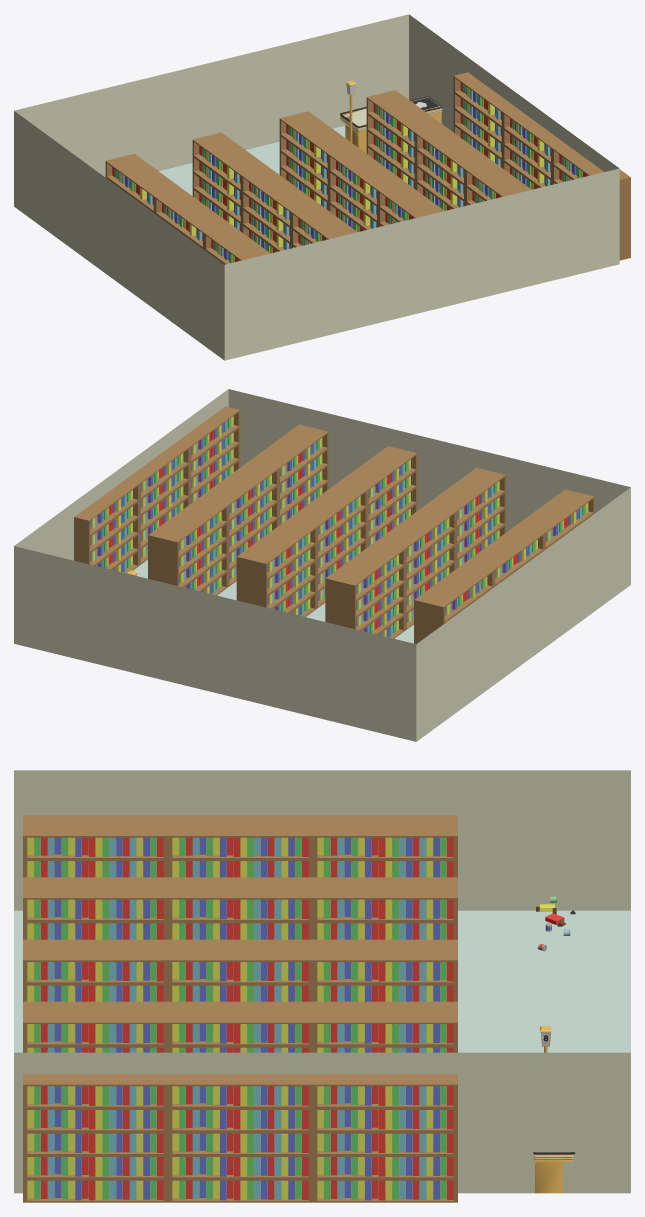
The model's file is modern shop.fbx.
3 views of the same model, one above another, from view 1: azimuth 30°, elevation 25°; view 2: azimuth 150°, elevation 25°; view 3: azimuth 270°, elevation 25° (orthographic). The views are drawn at different scales.
Parts seen in each view (by area): view 1: Cube, Cube.003, Cube.001; view 2: Cube, Cube.003; view 3: Cube.003, Cube, Cube.001.
Part boxes in pixels (left/top/right/bottom): Cube: left=14, top=14, right=619, bottom=360; Cube.003: left=105, top=72, right=630, bottom=264; Cube.001: left=340, top=80, right=442, bottom=152; Cube: left=14, top=389, right=630, bottom=741; Cube.003: left=74, top=406, right=594, bottom=644; Cube.003: left=23, top=815, right=457, bottom=1202; Cube: left=14, top=770, right=630, bottom=1193; Cube.001: left=533, top=1026, right=575, bottom=1193.
Size of the model in its own units: 2824 by 644 by 2515.
